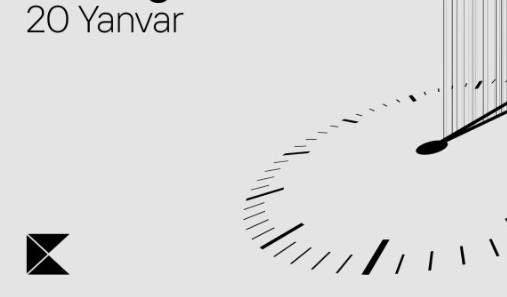Kapital Bank: (24, 231, 73, 277)
